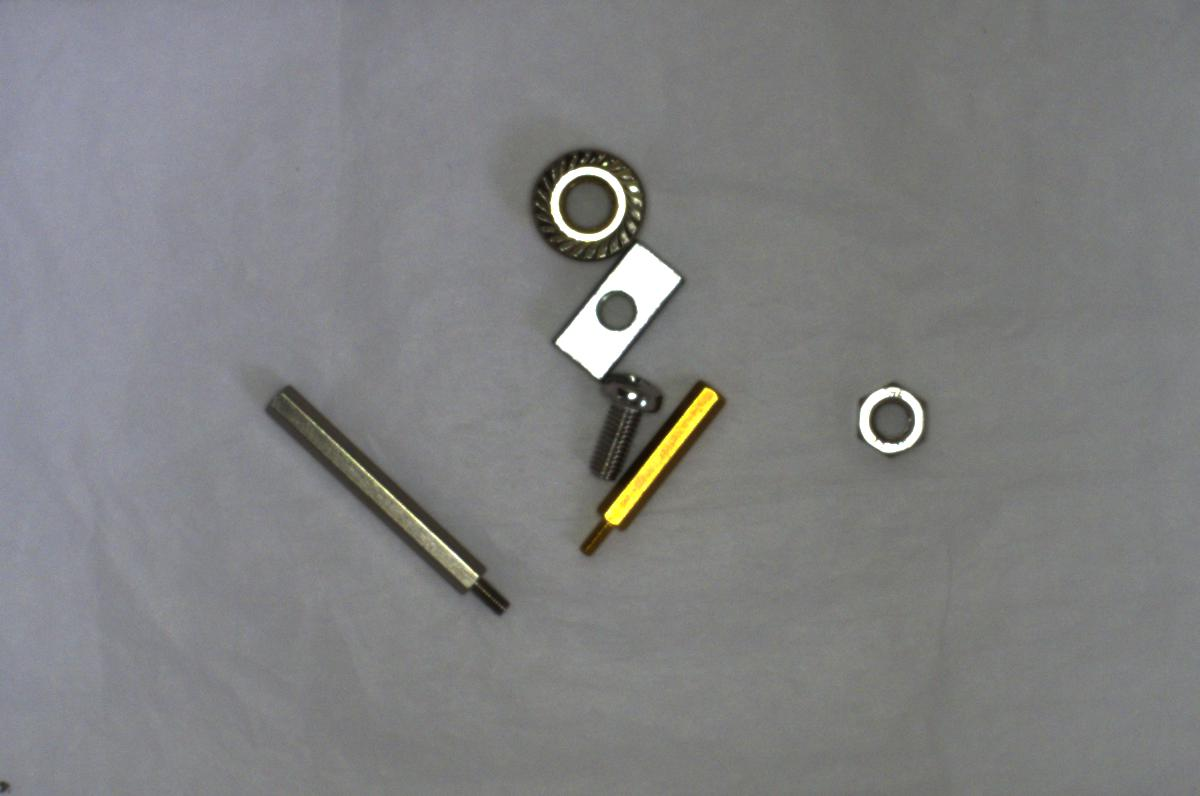Flange nut: (520, 145, 658, 260)
Hexagon nut: (844, 375, 932, 462)
Hexagon pillar: (577, 386, 727, 552)
Hexagonal steel column: (257, 381, 512, 615)
Rectangular nut: (555, 236, 690, 380)
Round head screw: (588, 374, 661, 485)
